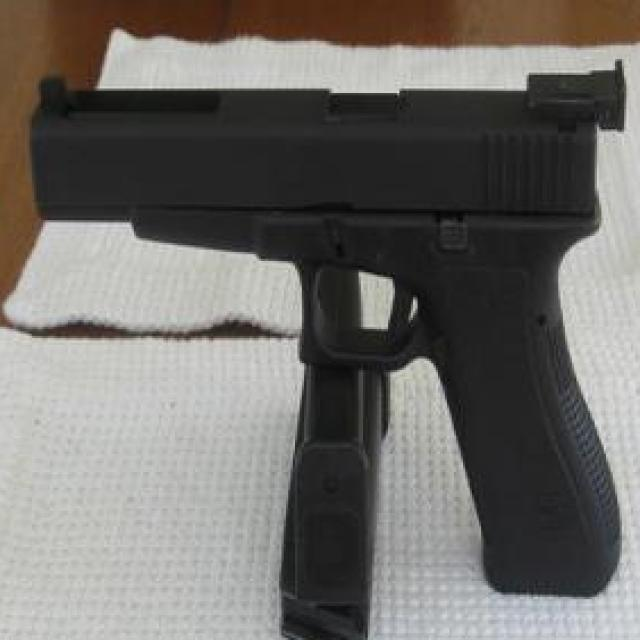pistol: (30, 59, 625, 600)
